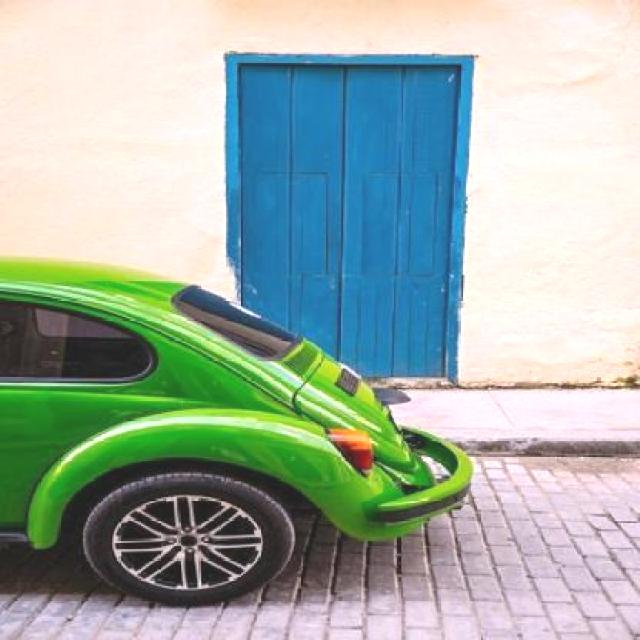car: (2, 267, 475, 578)
